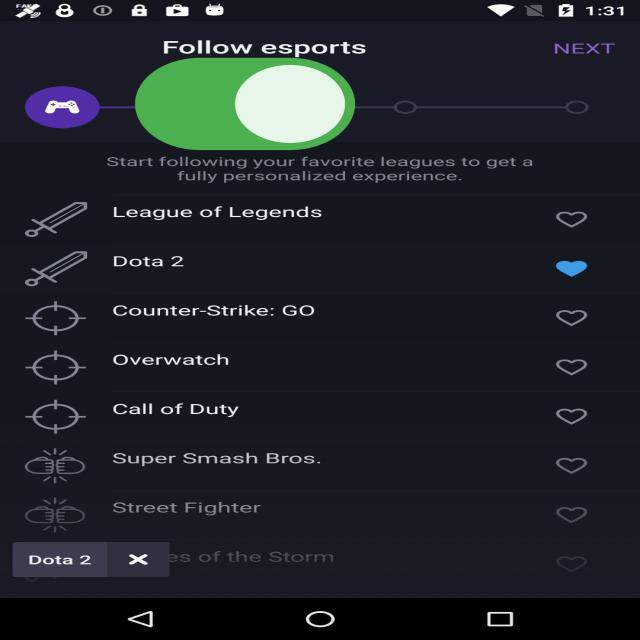social proof: (125, 22, 365, 193)
